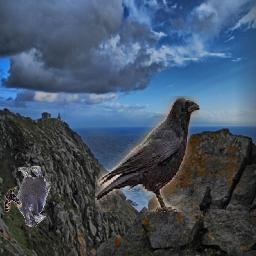Crow: (96, 96, 201, 212), (17, 167, 51, 228), (4, 186, 22, 212)
